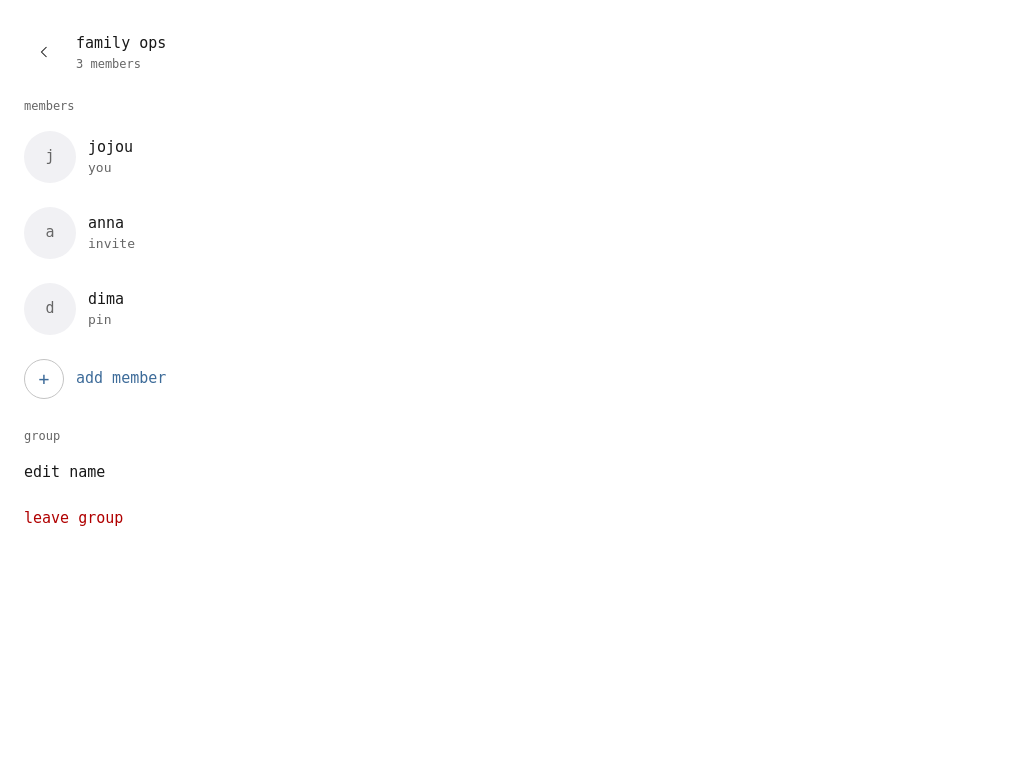
Test case: S9a group management › add member picker excludes existing members
Step 1. Click the button with test id "add-member" → {"x": 44, "y": 378}, box [0, 346, 1023, 410]
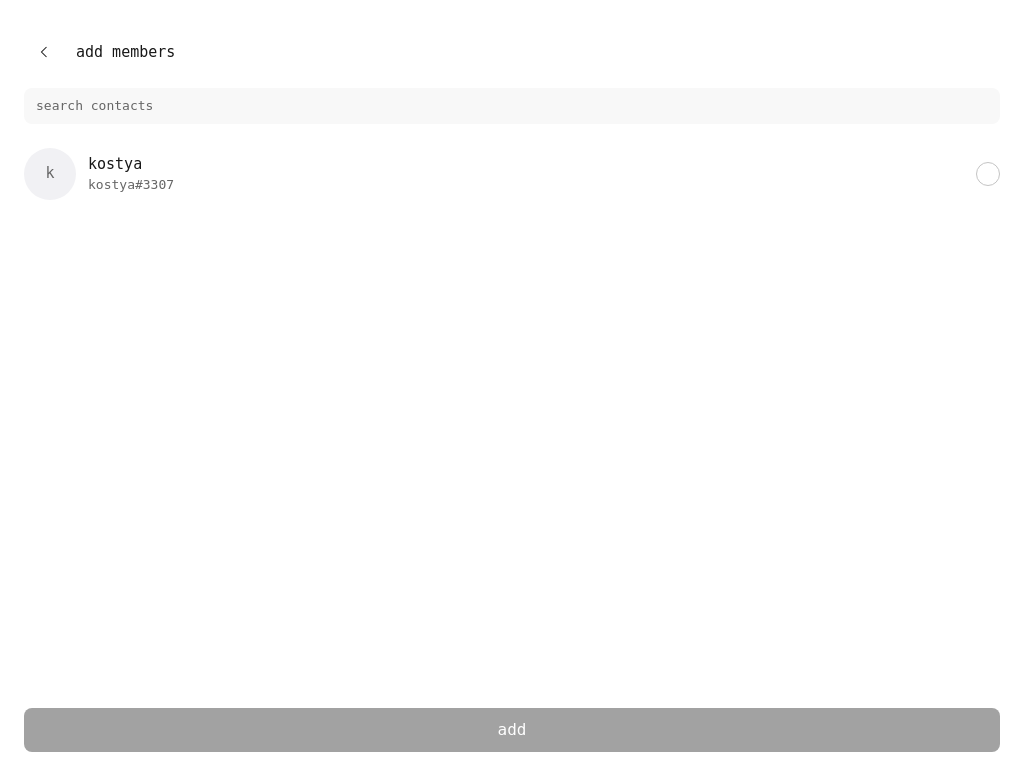
Expected: the element with test id "user-name" does not show "anna"
Result: the text with test id "user-name" reads "kostya" at [88, 154, 142, 172]
Step 2. Click the button with test id "add-row" → {"x": 50, "y": 174}, box [0, 136, 1023, 212]
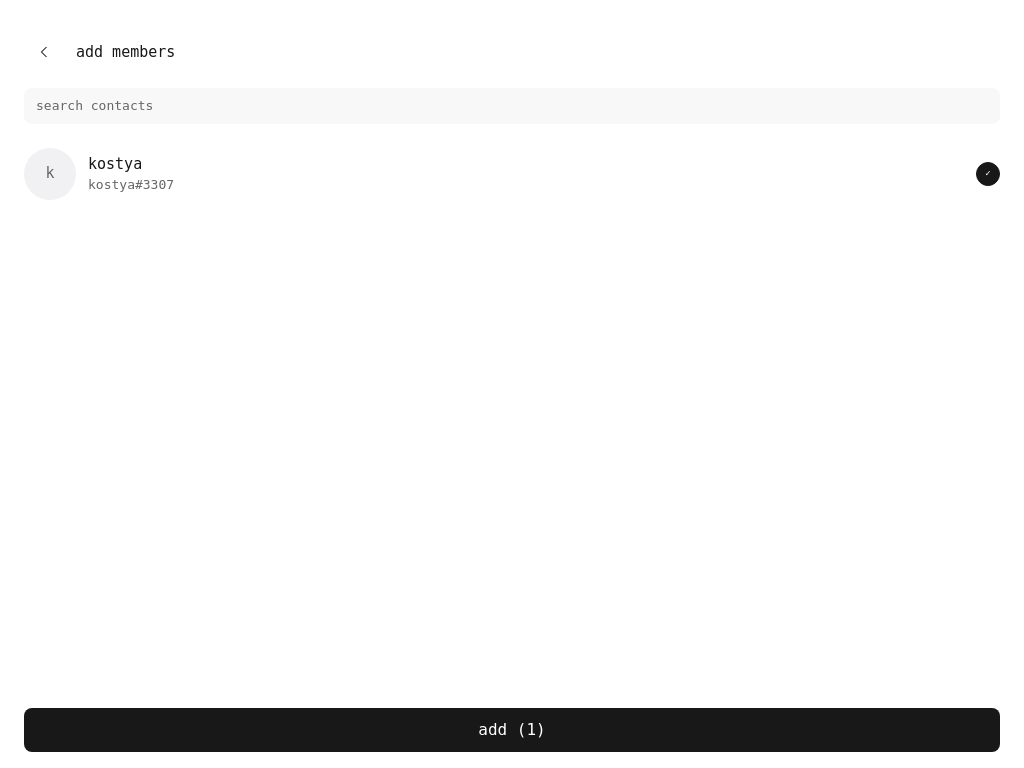
Step 3. Click the button with test id "add-confirm" → {"x": 512, "y": 730}, box [24, 708, 1000, 752]
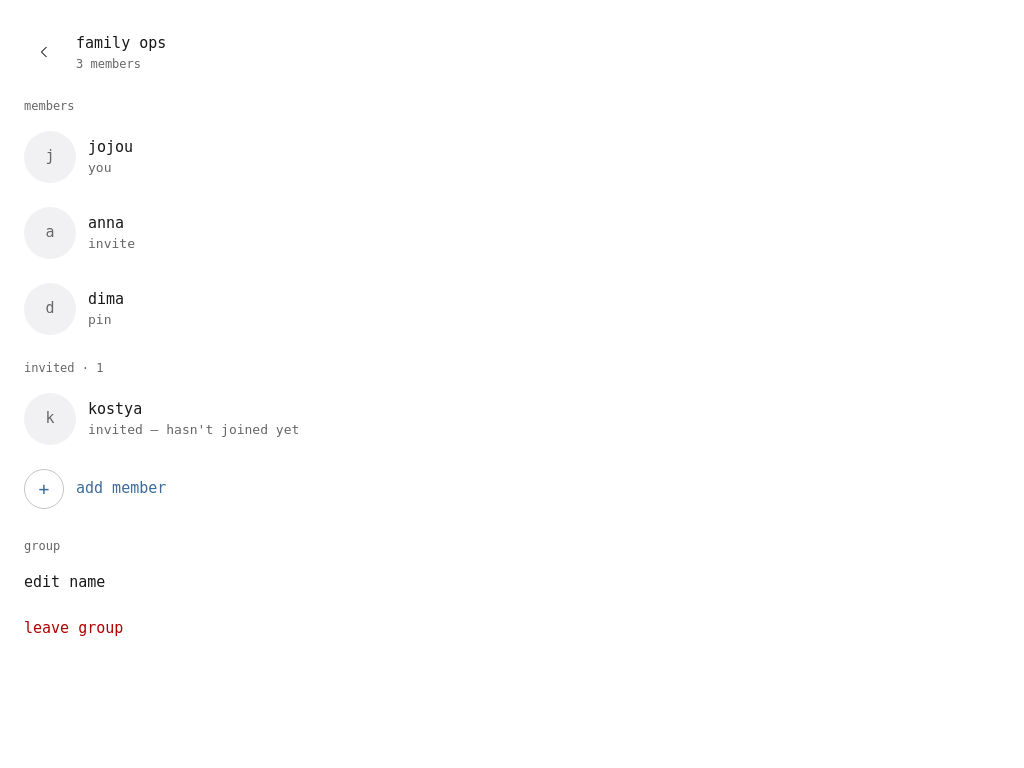
Result: the text "invited · 1" is shown at [24, 360, 104, 374]
Result: the number of buttons with test id "invited-row" is 1 at [0, 380, 1023, 456]
